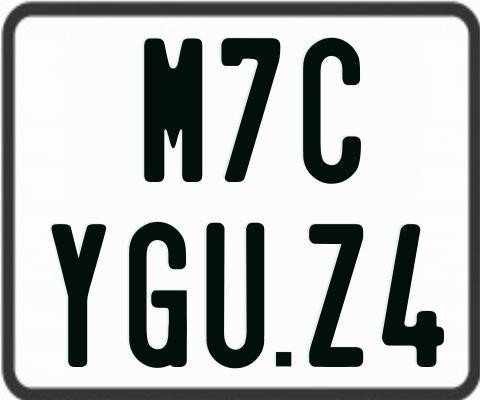4: (380, 222, 442, 369)
7: (220, 37, 285, 185)
C: (303, 38, 362, 188)
G: (127, 222, 188, 372)
M: (143, 37, 203, 181)
U: (205, 223, 266, 372)
Y: (50, 223, 111, 370)
Z: (307, 224, 364, 370)
